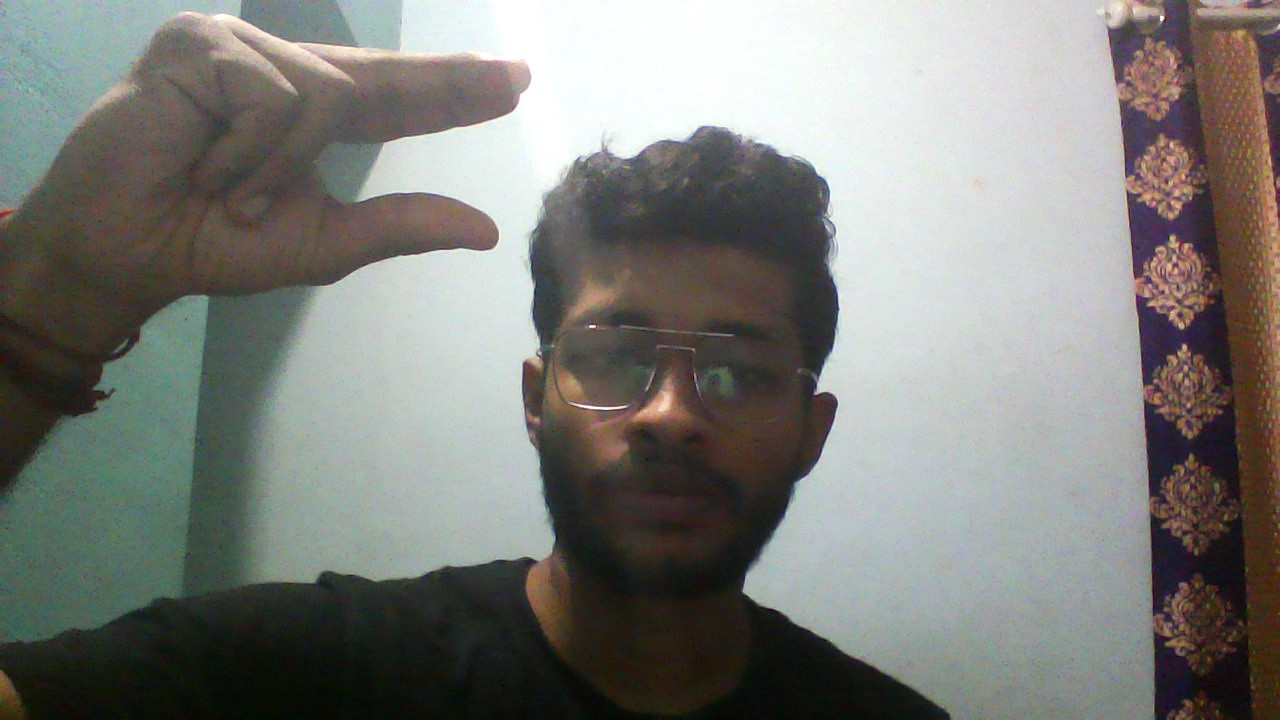No: (21, 1, 535, 301)
